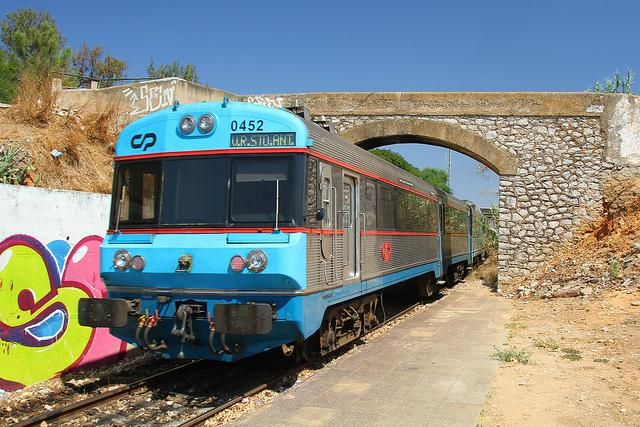Train: (79, 97, 496, 364)
